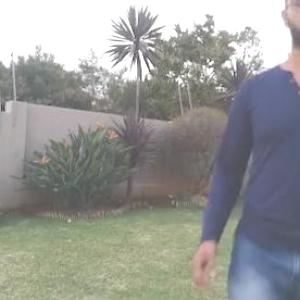follow: (222, 0, 299, 299)
